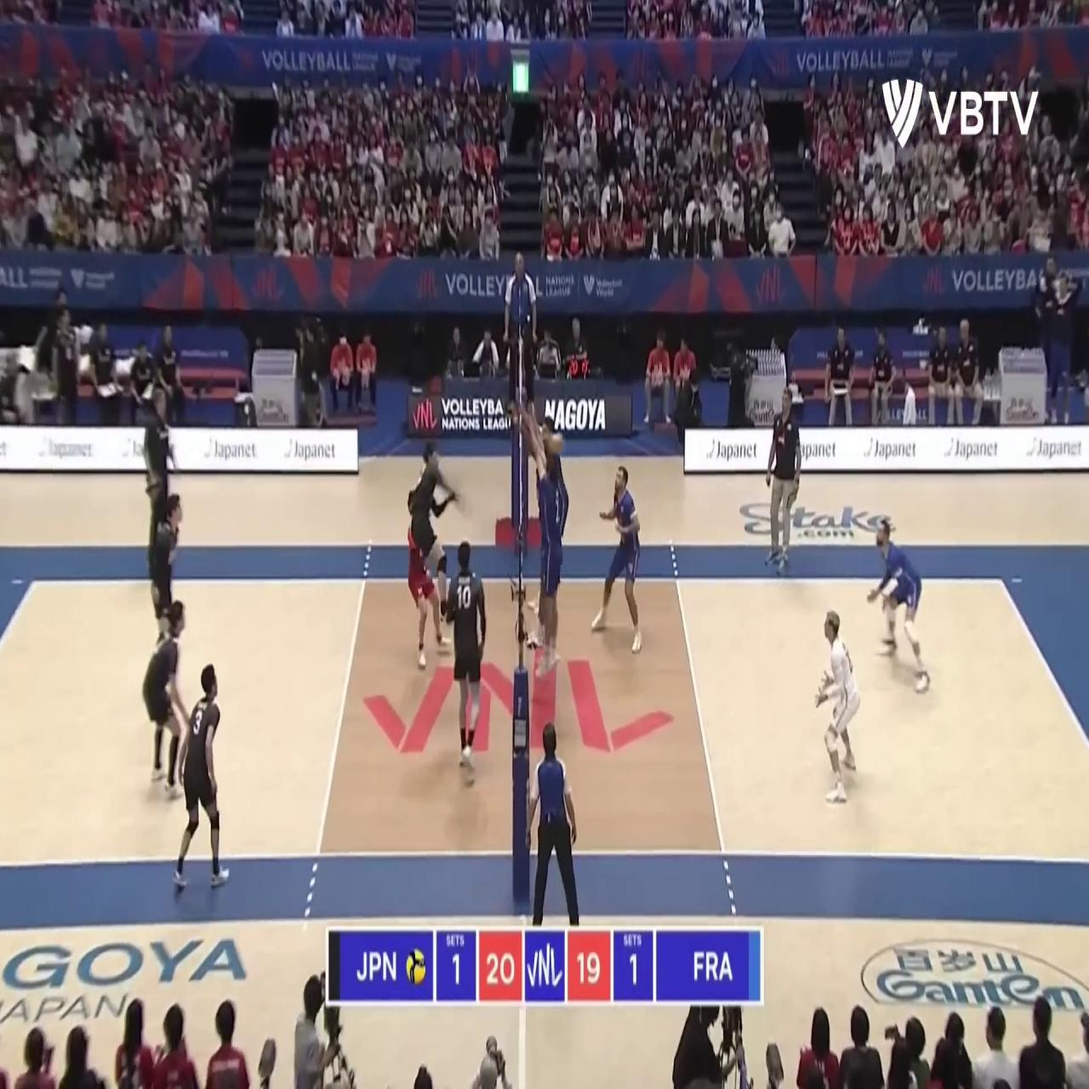ball: (549, 433, 566, 455)
